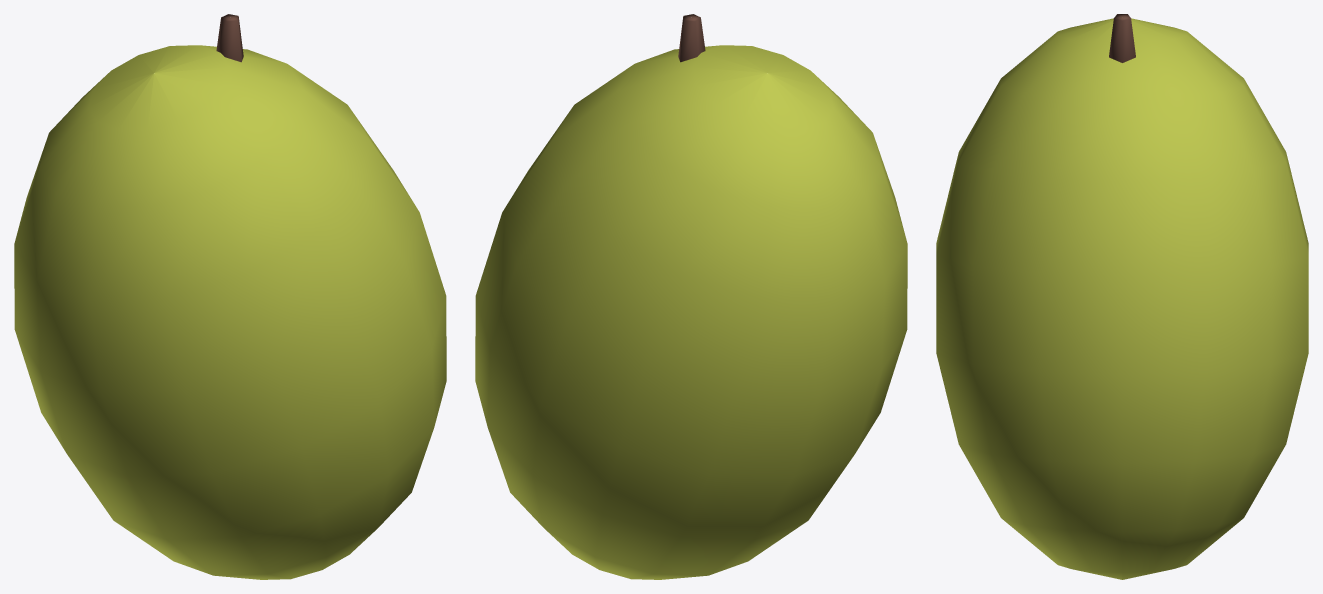
Rendered from fruit-mango-unripe.glb.
3 views of the same model, side by side, from view 1: azimuth 30°, elevation 25°; view 2: azimuth 150°, elevation 25°; view 3: azimuth 270°, elevation 25° (orthographic). The views are drawn at different scales.
Parts seen in each view (by area): view 1: fruit-mango-unripe; view 2: fruit-mango-unripe; view 3: fruit-mango-unripe.
Boxes of the visible parts, <box> form: fruit-mango-unripe: <box>14,14,446,579</box>; fruit-mango-unripe: <box>475,14,907,579</box>; fruit-mango-unripe: <box>936,14,1308,579</box>.
Size of the model in its own units: 0.3957 by 0.5444 by 0.3456.
